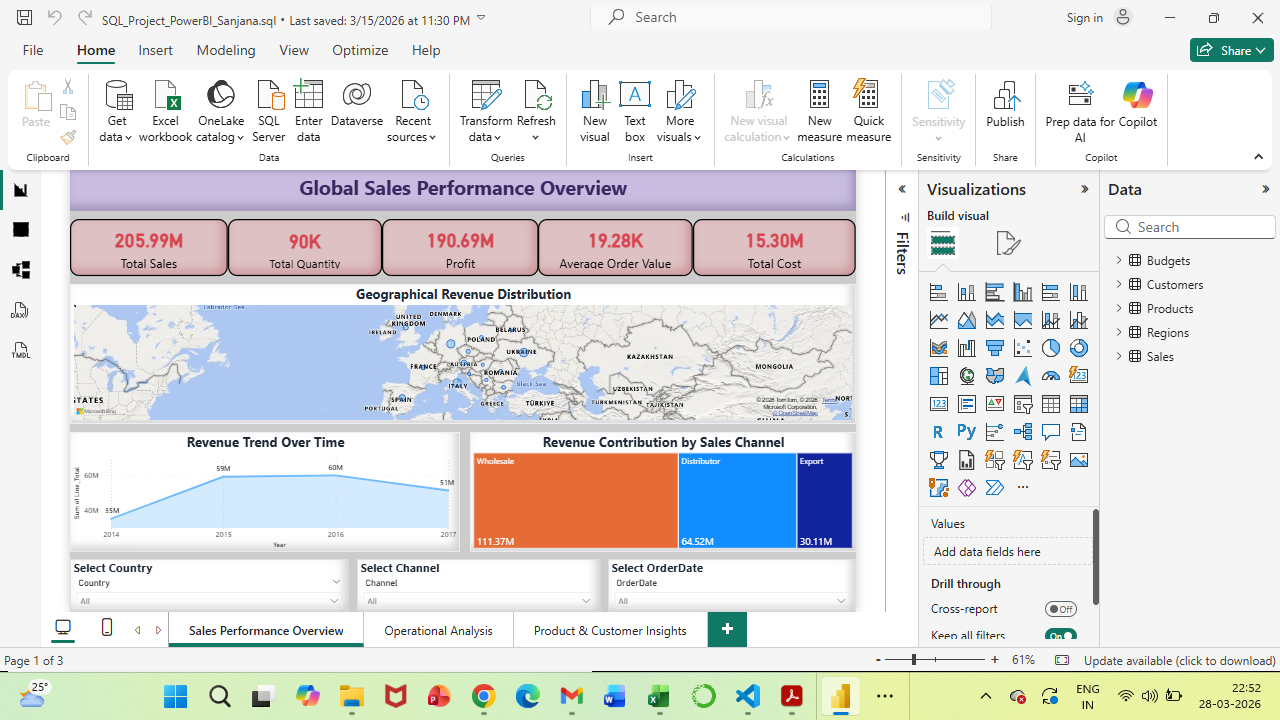

What the dashboard file says about the page in this screenshot:
{"tool":"powerbi","page":{"name":"Sales Performance Overview","canvas":[1280,720],"ordinal":0},"visuals":[{"type":"card","fields":{"Values":["Sales.Total Sales"]},"box":[0,79.6,257.1,92.9],"z":0},{"type":"card","fields":{"Values":["Sales.Total Quantity"]},"box":[257.1,79.6,250.5,92.9],"z":1000},{"type":"card","fields":{"Values":["Sales.Profit"]},"box":[507.6,79.6,255.5,92.9],"z":2000},{"type":"card","fields":{"Values":["Sales.Average Order Value"]},"box":[763.1,79.6,252.2,92.9],"z":3000},{"type":"card","fields":{"Values":["Sales.Total Cost"]},"box":[1015.3,79.6,265.4,92.9],"z":4000},{"type":"lineChart","title":"Revenue Trend Over Time","fields":{"Category":["Sales.OrderDate.Variation.Date Hierarchy.Year","Sales.OrderDate.Variation.Date Hierarchy.Quarter","Sales.OrderDate.Variation.Date Hierarchy.Month","Sales.OrderDate.Variation.Date Hierarchy.Day"],"Y":["Sum(Sales.Line_Total)"]},"box":[0,426.8,635.3,195.5],"z":5000},{"type":"map","title":"Geographical Revenue Distribution","fields":{"Category":["Regions.Country"],"Size":["Sum(Sales.Line_Total)"]},"box":[0,185.7,1280.4,228.1],"z":6000},{"type":"treemap","title":"Revenue Contribution by Sales Channel","fields":{"Values":["Sum(Sales.Line_Total)"],"Details":["Sales.Channel"]},"box":[651.6,426.8,628.8,195.5],"z":7000},{"type":"slicer","title":"Select Country","fields":{"Values":["Regions.Country"]},"box":[0,633.7,454.5,86.3],"z":8000},{"type":"slicer","title":"Select Channel","fields":{"Values":["Sales.Channel"]},"box":[467.5,633.7,397.5,86.3],"z":9000},{"type":"slicer","title":"Select OrderDate","fields":{"Values":["Sales.OrderDate"]},"box":[876.4,633.7,404,86.3],"z":10000},{"type":"textbox","box":[0,0,1280.7,66.4],"z":15000}]}

Visuals, with their boxes on the page's 1280x720 design canvas (x1, y1, x2, y2). These are canvas units, not pixel positions in the 1280x720 screenshot, which may show the page scaled, cropped or inside an application window:
card - Sales.Total Sales: x1=0, y1=80, x2=257, y2=172
card - Sales.Total Quantity: x1=257, y1=80, x2=508, y2=172
card - Sales.Profit: x1=508, y1=80, x2=763, y2=172
card - Sales.Average Order Value: x1=763, y1=80, x2=1015, y2=172
card - Sales.Total Cost: x1=1015, y1=80, x2=1281, y2=172
"Revenue Trend Over Time" lineChart: x1=0, y1=427, x2=635, y2=622
"Geographical Revenue Distribution" map: x1=0, y1=186, x2=1280, y2=414
"Revenue Contribution by Sales Channel" treemap: x1=652, y1=427, x2=1280, y2=622
"Select Country" slicer: x1=0, y1=634, x2=454, y2=720
"Select Channel" slicer: x1=468, y1=634, x2=865, y2=720
"Select OrderDate" slicer: x1=876, y1=634, x2=1280, y2=720
textbox: x1=0, y1=0, x2=1281, y2=66
